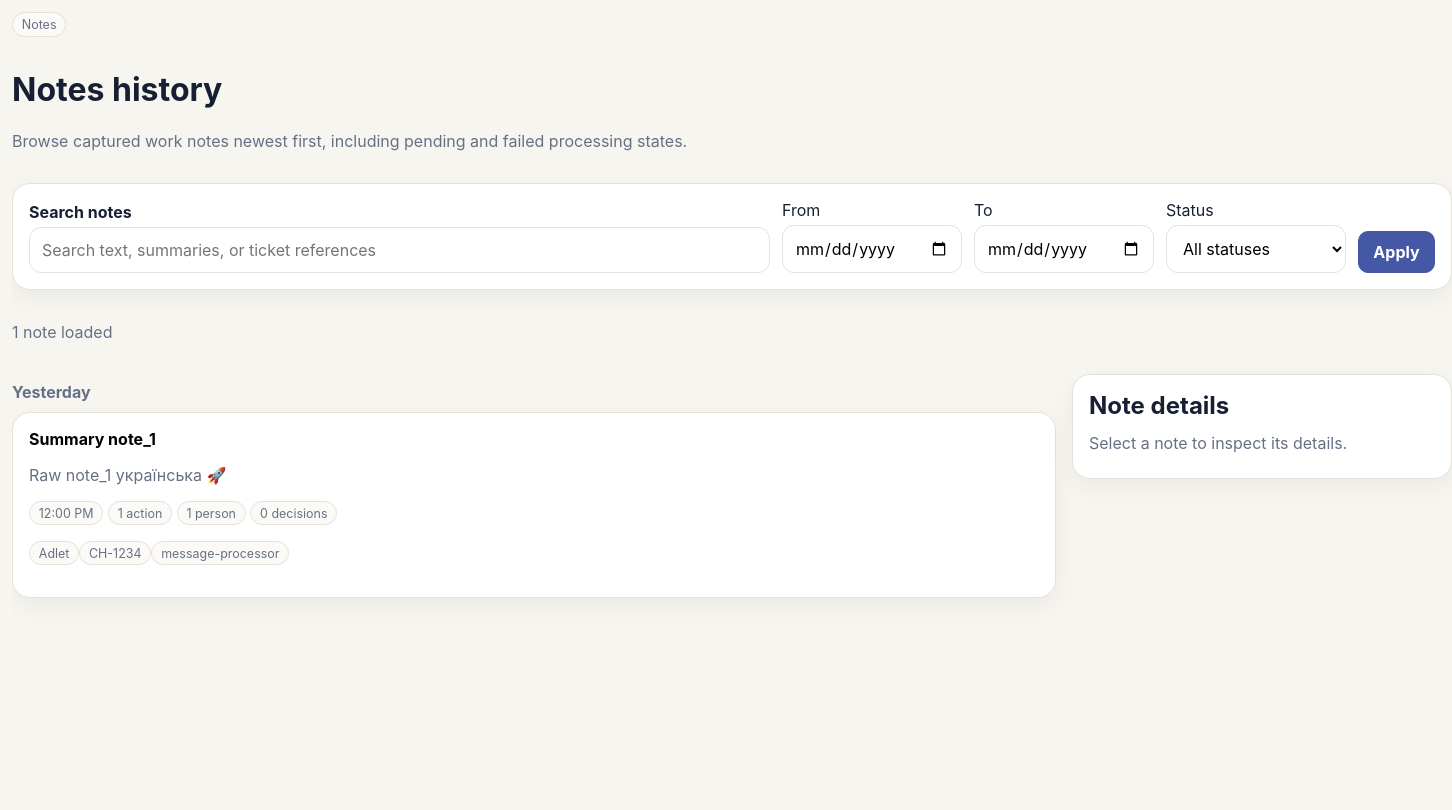
Test: NotesHistoryPage › opens detail without reloading the list and preserves list on detail error
The image size is (1452, 810).
Expected: the text "Summary note_1" is shown, [29,429,156,449]
Step 1. Click the button with aria-label "Open note" → [534, 505], box [12,412,1056,598]
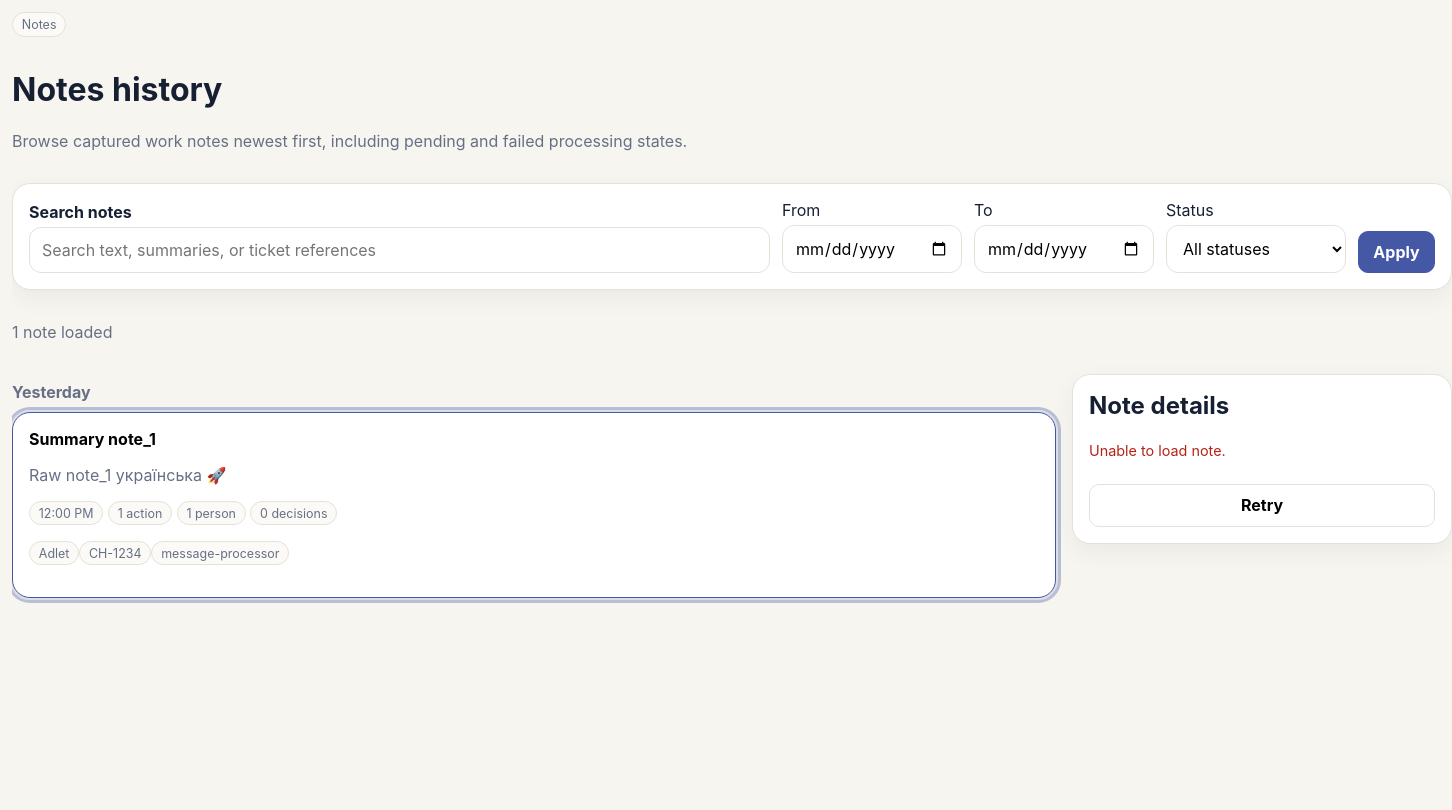
Expected: the text "Summary note_1" is shown, [29,429,156,449]
Now the text "Unable to load note." is shown, box [1089,442,1226,459]
